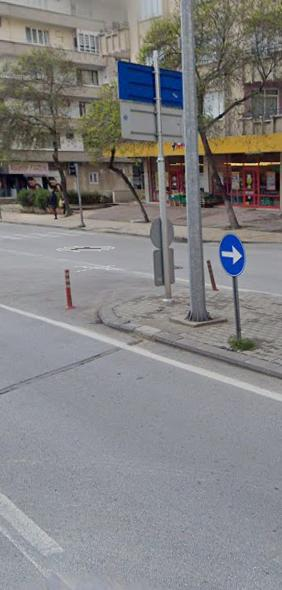turnright: (220, 234, 247, 273)
